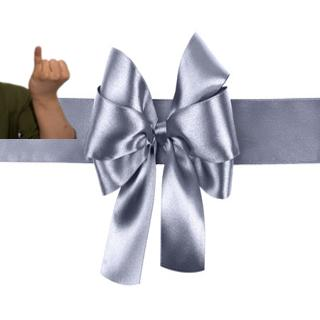FINE: (26, 44, 72, 104)
